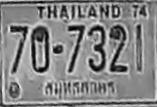0: (31, 25, 50, 72)
1: (135, 24, 142, 71)
2: (108, 24, 126, 72)
3: (87, 24, 105, 71)
7: (10, 25, 28, 73), (67, 24, 84, 72)
SKN: (42, 77, 116, 99)
